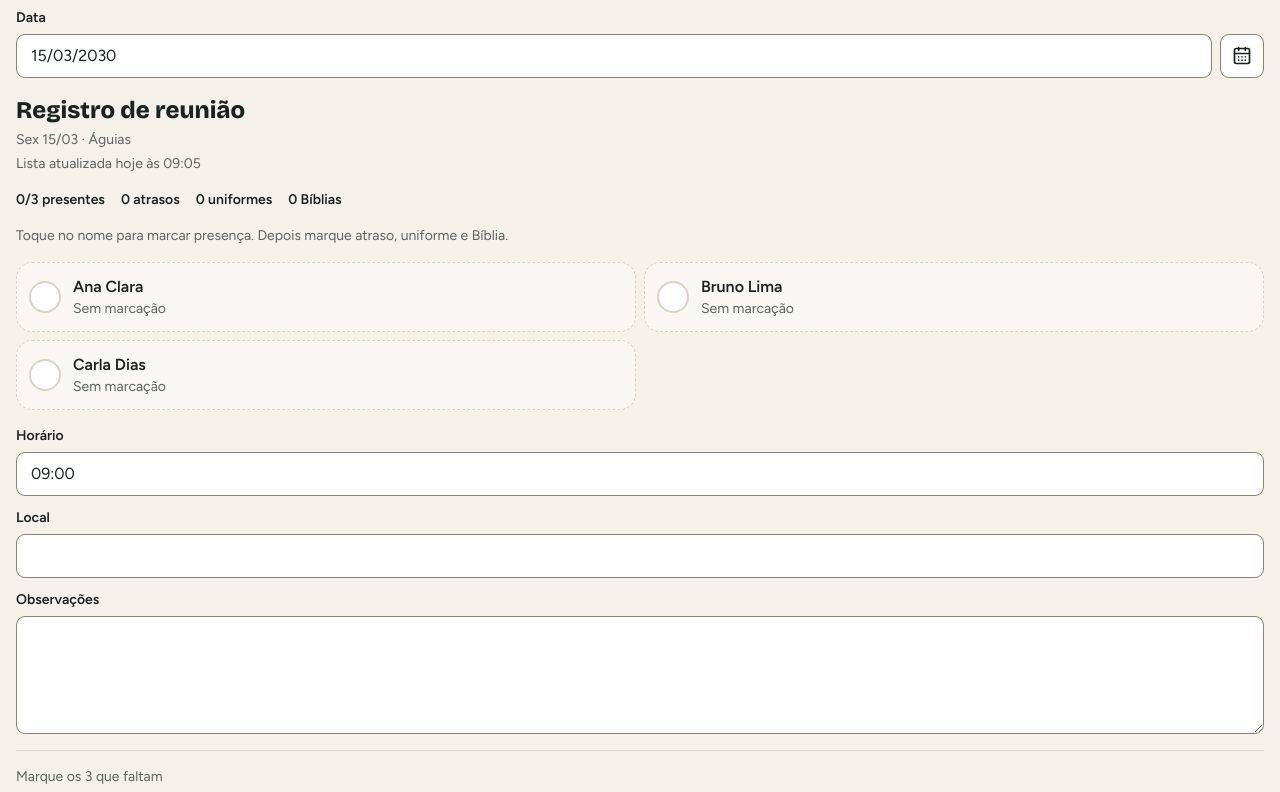
Test: Chamada nova › segue desabilitado enquanto sobra alguém sem marca e habilita quando todos têm
Check: the text "Ana Clara" is shown, box [73,277,143,296]
Click the button "✓ Ana Clara Sem marcação" at (45, 297), box [29,275,623,319]
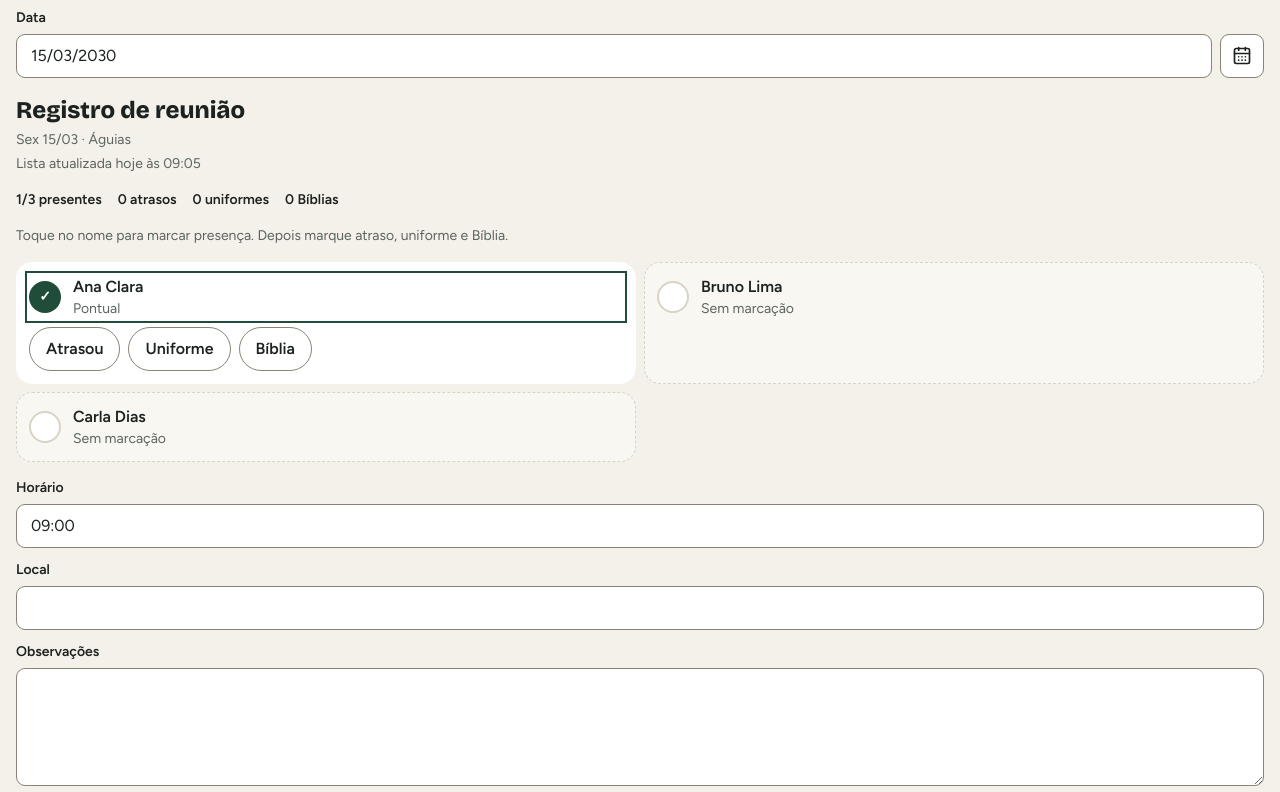
Click the button "✓ Bruno Lima Sem marcação" at (673, 297), box [657,275,1251,319]
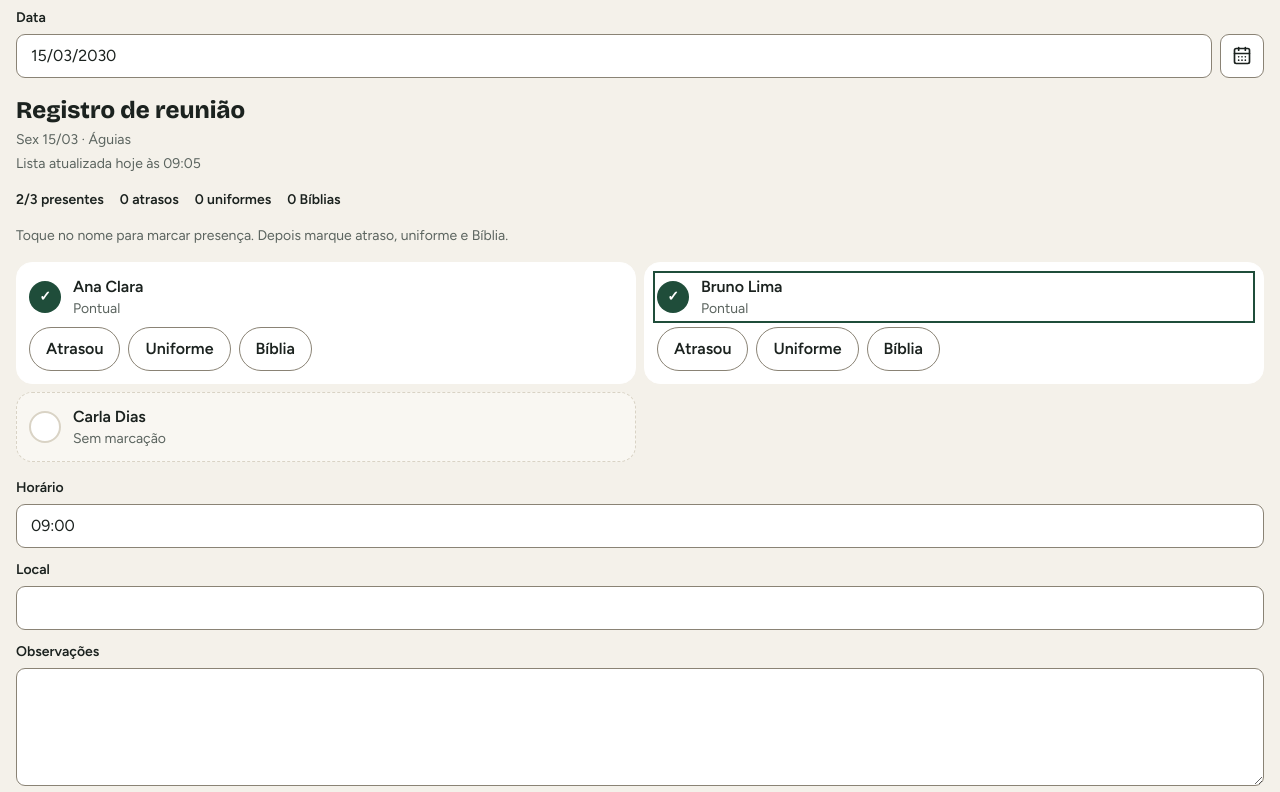
Click the button "✓ Carla Dias Sem marcação" at (45, 427), box [29,405,623,449]
(page scrolled)
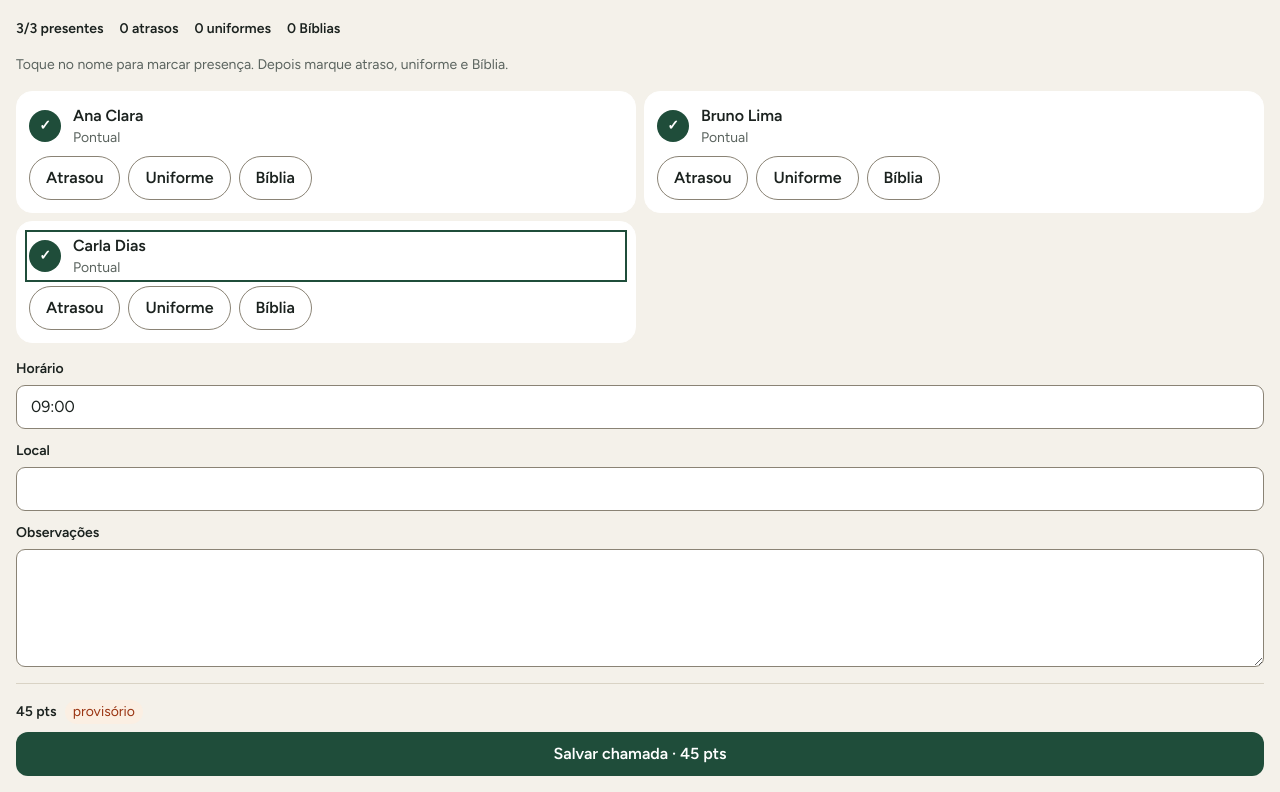
Check: the button "Salvar chamada · 45 pts" is enabled, box [16,732,1264,776]
